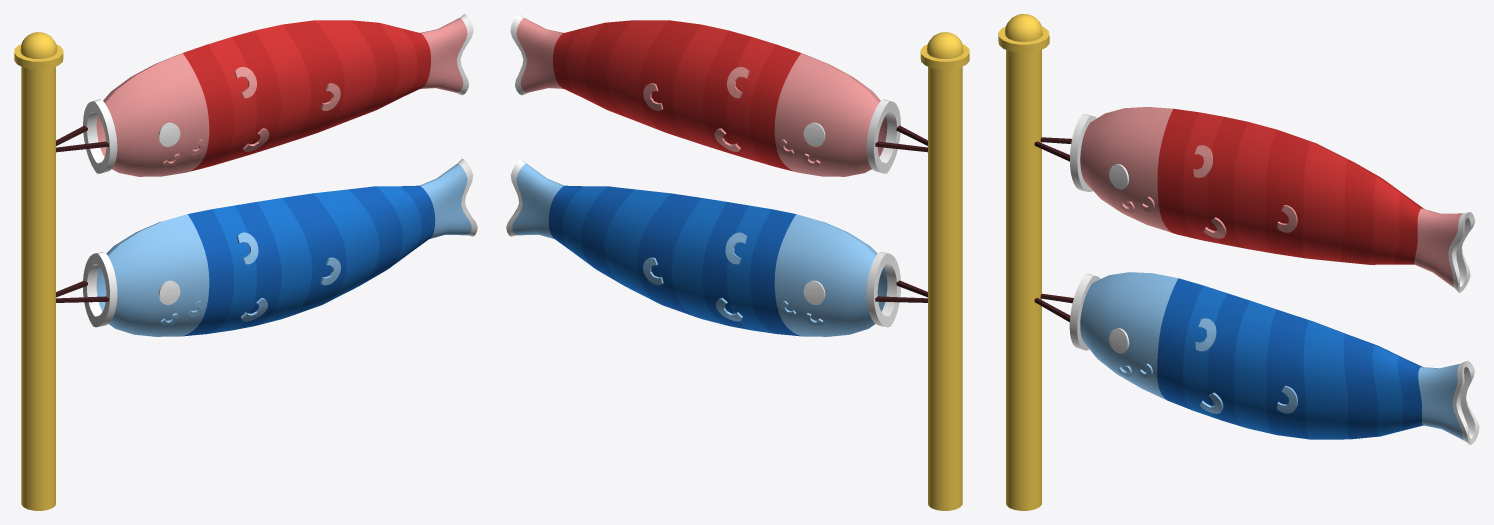
Rendered from carp_streamer.fbx.
3 renders of one model, left to right at view 1: azimuth 30°, elevation 25°; view 2: azimuth 150°, elevation 25°; view 3: azimuth 330°, elevation 25°, orthographic. The views are drawn at different scales.
Visible parts, largest first — view 1: Cube.899; view 2: Cube.899; view 3: Cube.899.
Boxes of the visible parts, x1,y1,x2,y2 form: Cube.899: (14,14,477,510); Cube.899: (506,14,969,510); Cube.899: (998,14,1479,510).
Bounding box in the file's own units: 231 × 229 × 37.53.
1 material, 1 textured.
